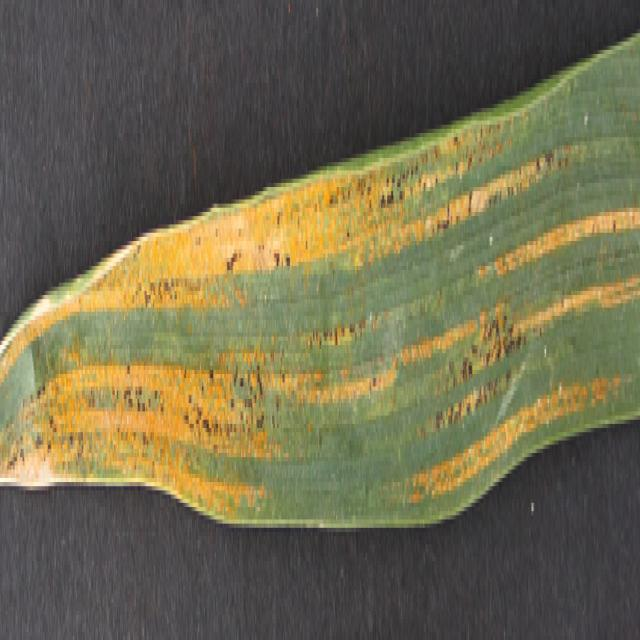leaf rust: (1, 112, 638, 507)
